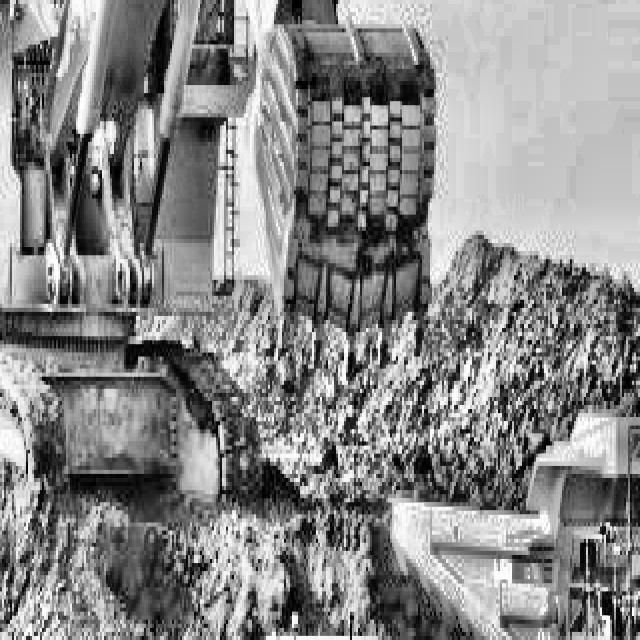dump_truck: (382, 397, 640, 640)
excavator: (0, 0, 456, 539)
